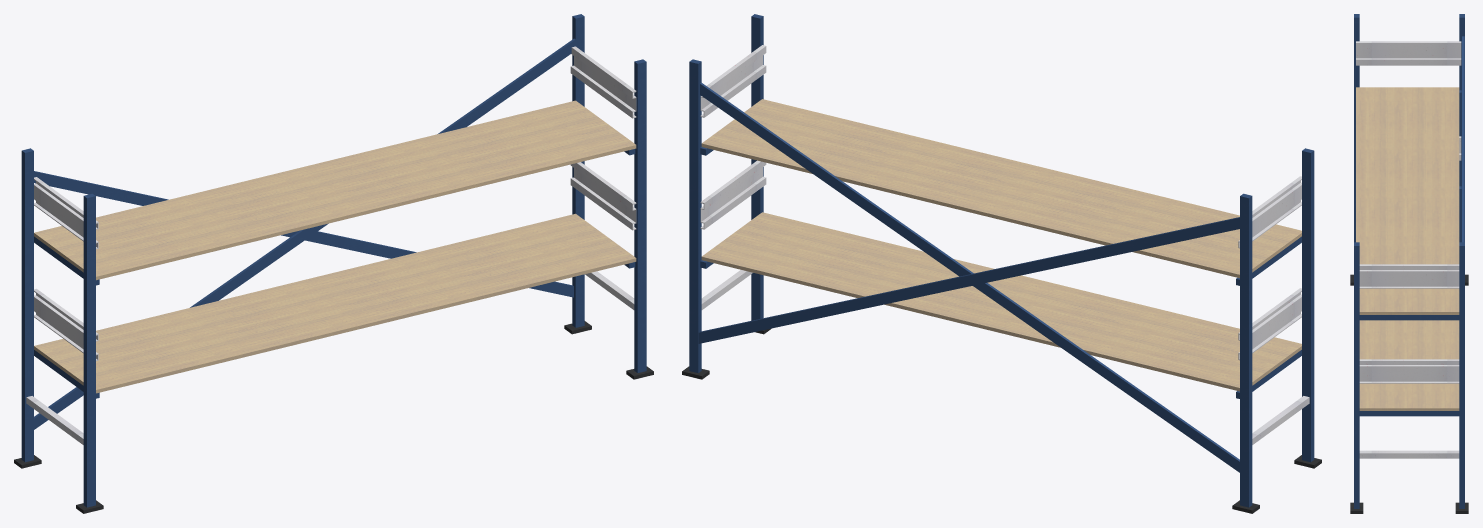
The model's file is BigShelves04.FBX.
3 views of the same model, side by side, from view 1: azimuth 30°, elevation 25°; view 2: azimuth 150°, elevation 25°; view 3: azimuth 270°, elevation 25° (orthographic). The views are drawn at different scales.
Visible parts, largest first — view 1: BigShelves04; view 2: BigShelves04; view 3: BigShelves04.
Part boxes in pixels (x1,y1,x2,y2): BigShelves04: [14, 14, 653, 513]; BigShelves04: [682, 14, 1321, 513]; BigShelves04: [1350, 14, 1468, 513].
Size of the model in its own units: 337 by 177 by 71.17.
